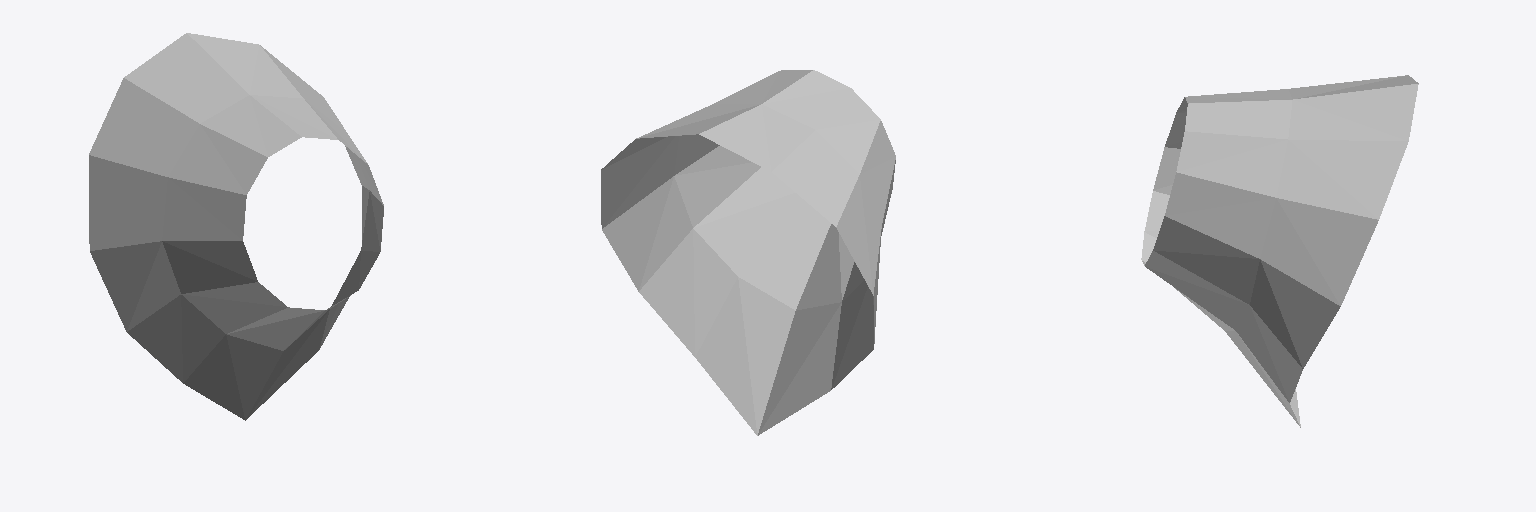
Rendered from cou2.obj.
3 renders of one model, left to right at view 1: azimuth 30°, elevation 25°; view 2: azimuth 150°, elevation 25°; view 3: azimuth 270°, elevation 25°, orthographic.
Visible parts, largest first — view 1: cou2_Wolf.003; view 2: cou2_Wolf.003; view 3: cou2_Wolf.003.
Part boxes in pixels (x1,y1,x2,y2): cou2_Wolf.003: (89, 33, 383, 420); cou2_Wolf.003: (601, 70, 895, 435); cou2_Wolf.003: (1141, 75, 1418, 427).
Bounding box in the file's own units: 21.77 × 26.39 × 19.24.